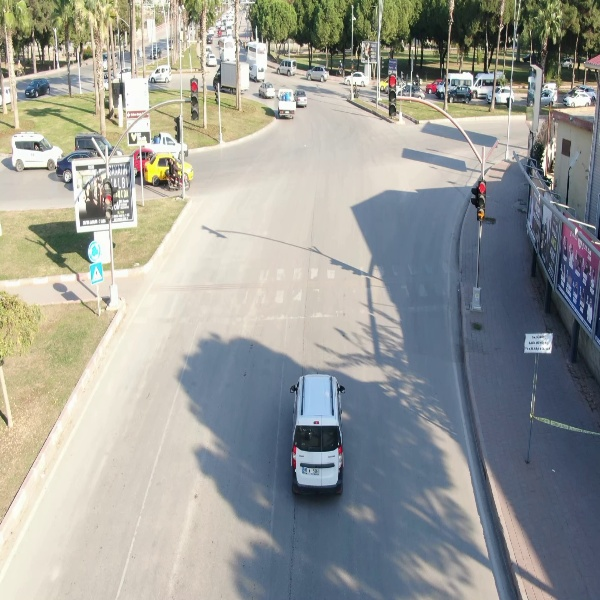car: (286, 372, 348, 497), (10, 132, 65, 172), (21, 76, 53, 98), (146, 64, 174, 86), (446, 85, 475, 104), (562, 89, 593, 106), (304, 65, 329, 82), (293, 87, 310, 111), (277, 59, 298, 78), (345, 72, 370, 86), (259, 82, 276, 101)
